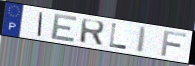E: (49, 13, 79, 43)
F: (160, 30, 188, 58)
I: (135, 25, 149, 55), (36, 11, 45, 38)
L: (108, 22, 129, 51)
R: (79, 18, 107, 48)
